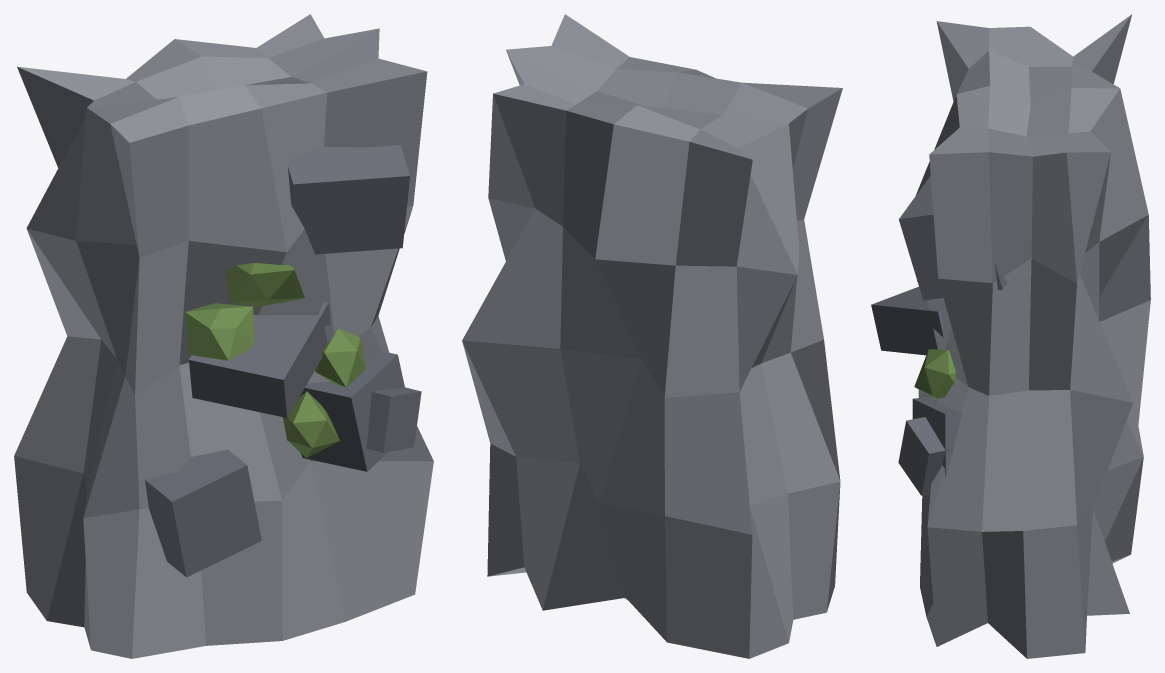
Rendered from jungle_cliff.glb.
3 views of the same model, side by side, from view 1: azimuth 30°, elevation 25°; view 2: azimuth 150°, elevation 25°; view 3: azimuth 270°, elevation 25° (orthographic). The views are drawn at different scales.
Parts seen in each view (by area): view 1: jungle_cliff; view 2: jungle_cliff; view 3: jungle_cliff.
Boxes of the visible parts, box(x1,y1,x2,y2) form: jungle_cliff: box(14, 14, 433, 658); jungle_cliff: box(462, 14, 842, 658); jungle_cliff: box(871, 14, 1150, 658).
Bounding box in the file's own units: 17.89 × 27.41 × 13.57.
